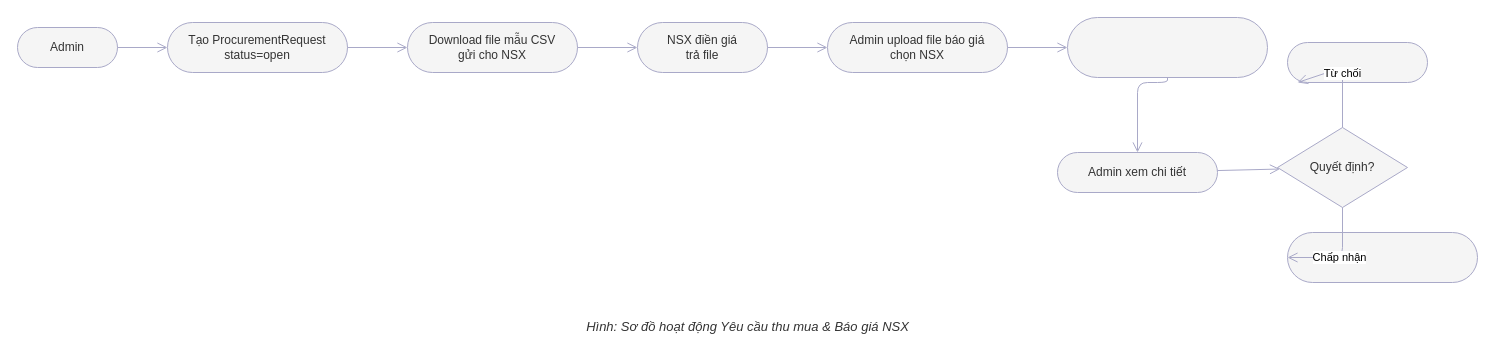
This 1495x360 diagram has some shape labels left out. Each missing label, with the centre of its shape:
status=rejected: the point at 1357,62
Tick SP + điền số lượng Tạo PurchaseOrder: the point at 1382,257
Đọc file → Tạo SupplierOffer + SupplierOfferItem status=submitted: the point at 1167,47
